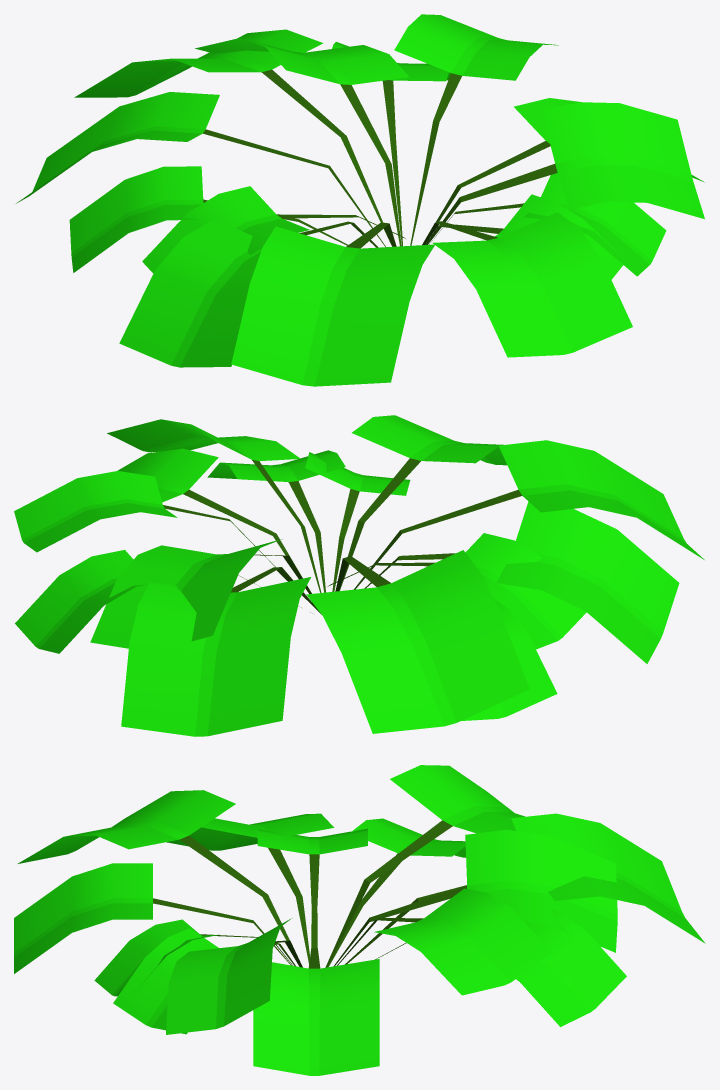
Rendered from Plant_1.fbx.
3 renders of one model, top to bottom at view 1: azimuth 30°, elevation 25°; view 2: azimuth 150°, elevation 25°; view 3: azimuth 270°, elevation 25°, orthographic. The views are drawn at different scales.
Parts seen in each view (by area): view 1: Plant_1; view 2: Plant_1; view 3: Plant_1.
Boxes of the visible parts, x1=… form: Plant_1: x1=16, y1=14, x2=704, y2=386; Plant_1: x1=14, y1=415, x2=704, y2=736; Plant_1: x1=14, y1=765, x2=705, y2=1075.
Size of the model in its own units: 163 by 43.47 by 186.
